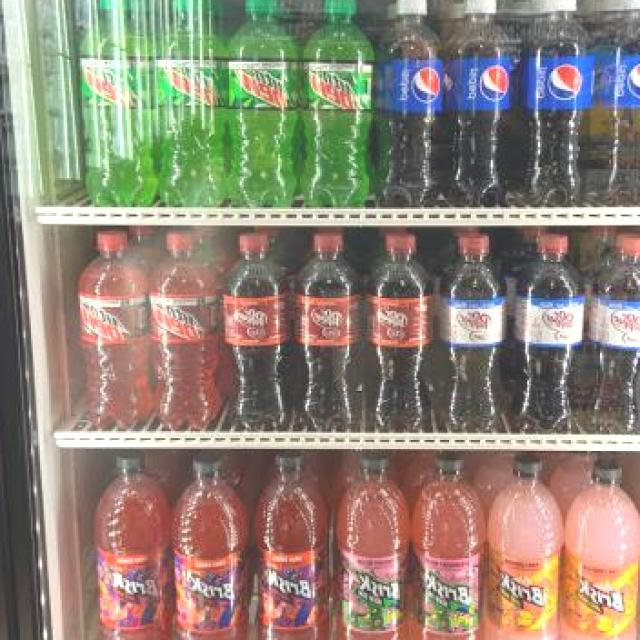Drinks: (154, 0, 228, 209), (227, 0, 300, 209), (304, 0, 376, 209), (81, 0, 153, 207), (512, 234, 586, 434), (146, 231, 219, 433), (219, 230, 292, 432), (291, 230, 364, 432), (76, 230, 148, 432), (440, 232, 511, 434), (382, 0, 450, 207), (367, 234, 438, 432), (450, 0, 514, 209), (530, 0, 593, 207), (589, 233, 640, 438), (597, 0, 640, 205)
